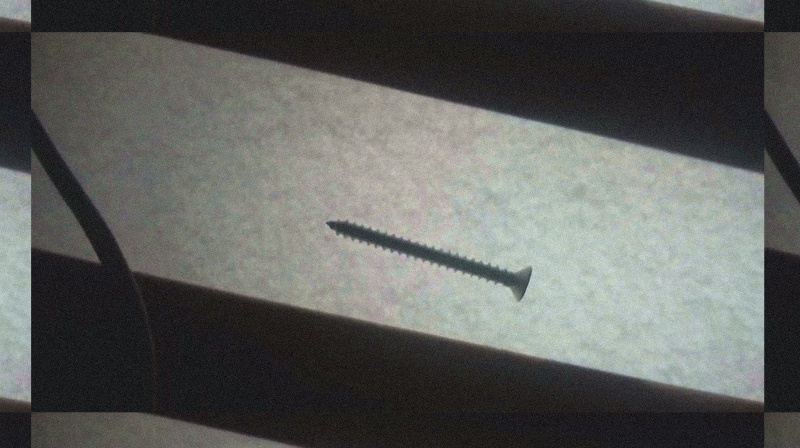S002: (322, 217, 535, 302)
